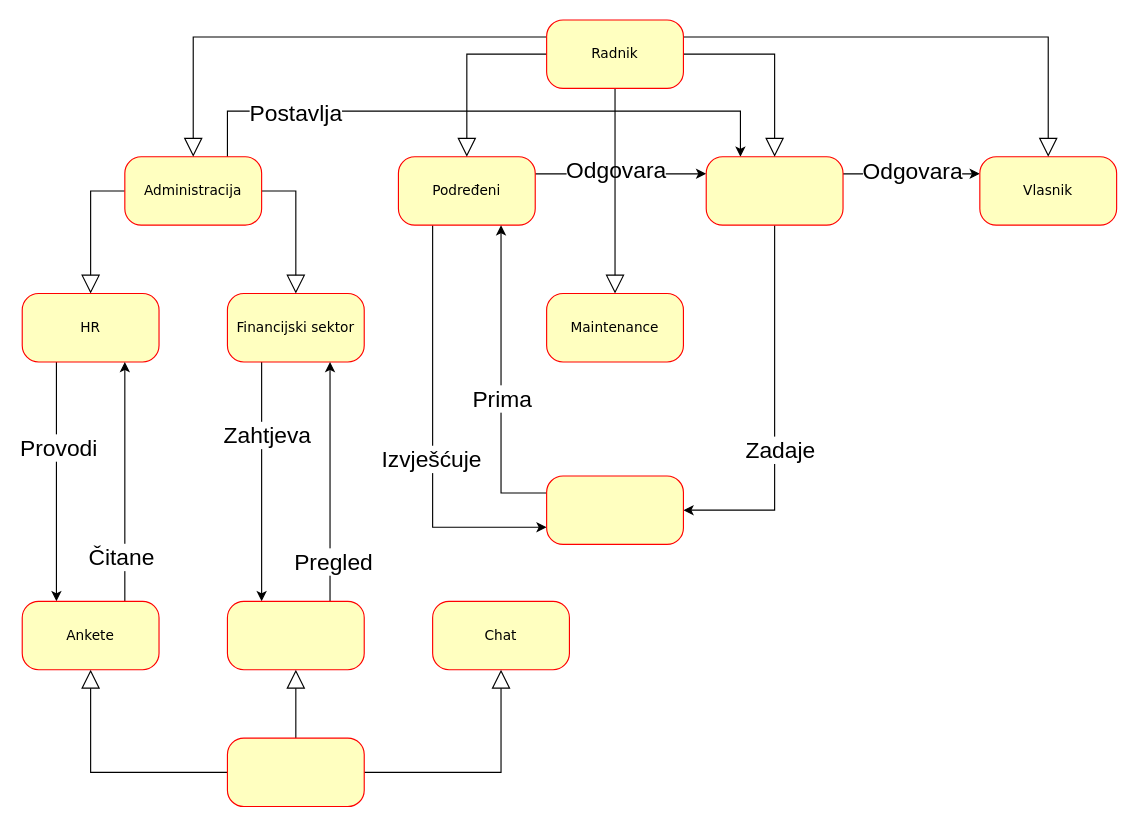
The diagram is 1137 pixels wide and 827 high, and some of its shapes have lost their labels. The centre of each missing label's shape, as x and y in pixels:
"Alati" belongs at pixel 295 772.
"Financijska izvješća" belongs at pixel 295 635.
"Nadređeni" belongs at pixel 774 190.
"Zadaci" belongs at pixel 614 509.
